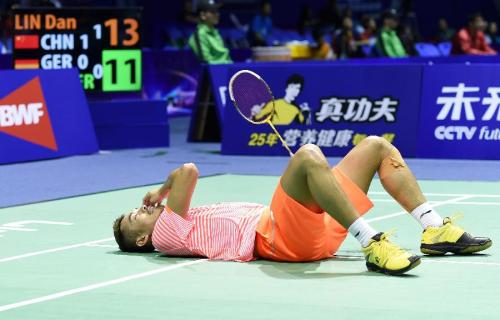10+: (105, 1, 500, 281)
down: (109, 129, 494, 280)
